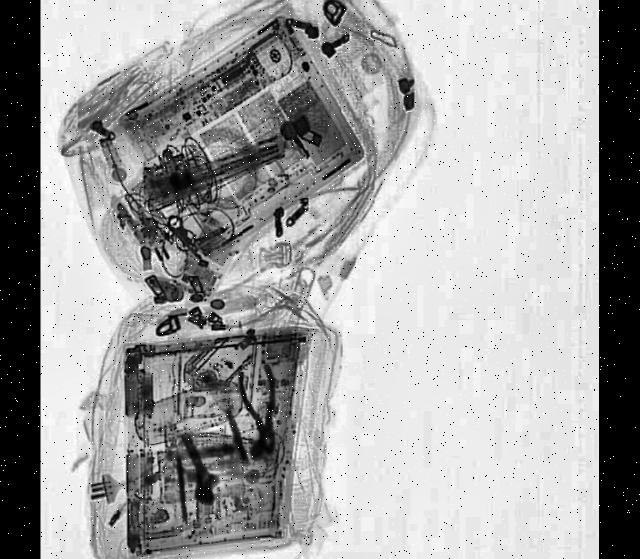Pliers: (236, 358, 291, 460)
Wrench: (177, 432, 224, 512)
